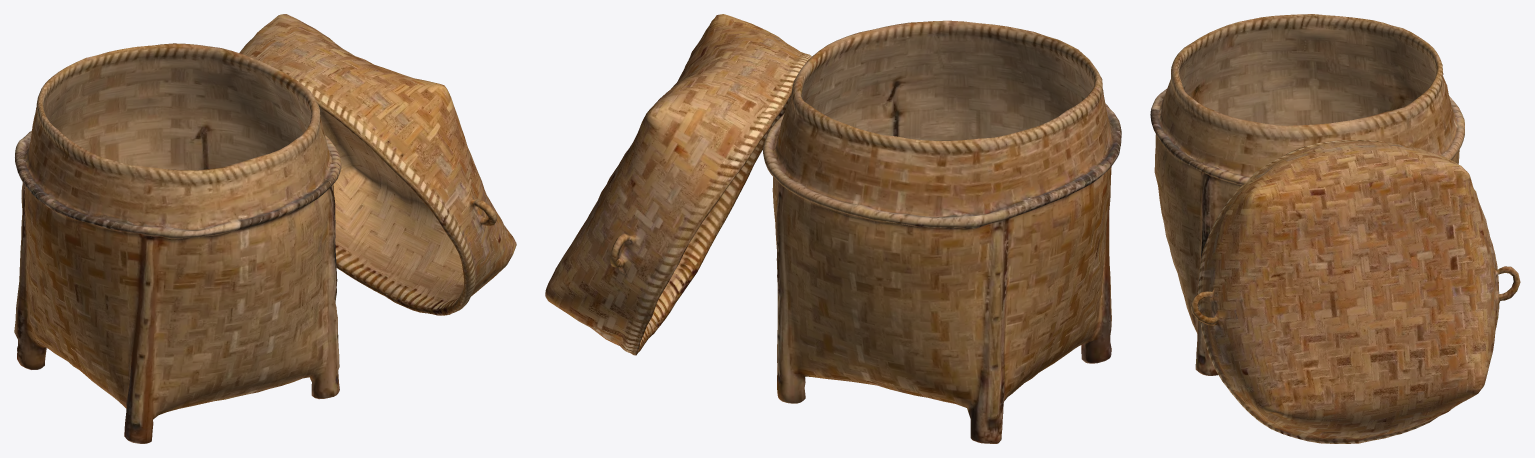
File: wicker_basket_02.glb
3 views of the same model, side by side, from view 1: azimuth 30°, elevation 25°; view 2: azimuth 150°, elevation 25°; view 3: azimuth 270°, elevation 25° (orthographic). The views are drawn at different scales.
Visible parts, largest first — view 1: wicker_basket_02_base; view 2: wicker_basket_02_base; view 3: wicker_basket_02_base.
Boxes of the visible parts, <box> form: wicker_basket_02_base: <box>14,14,516,443</box>; wicker_basket_02_base: <box>545,14,1121,443</box>; wicker_basket_02_base: <box>1150,14,1520,443</box>.
Bounding box in the file's own units: 0.3469 × 0.2005 × 0.2545.
1 material, 1 textured.
